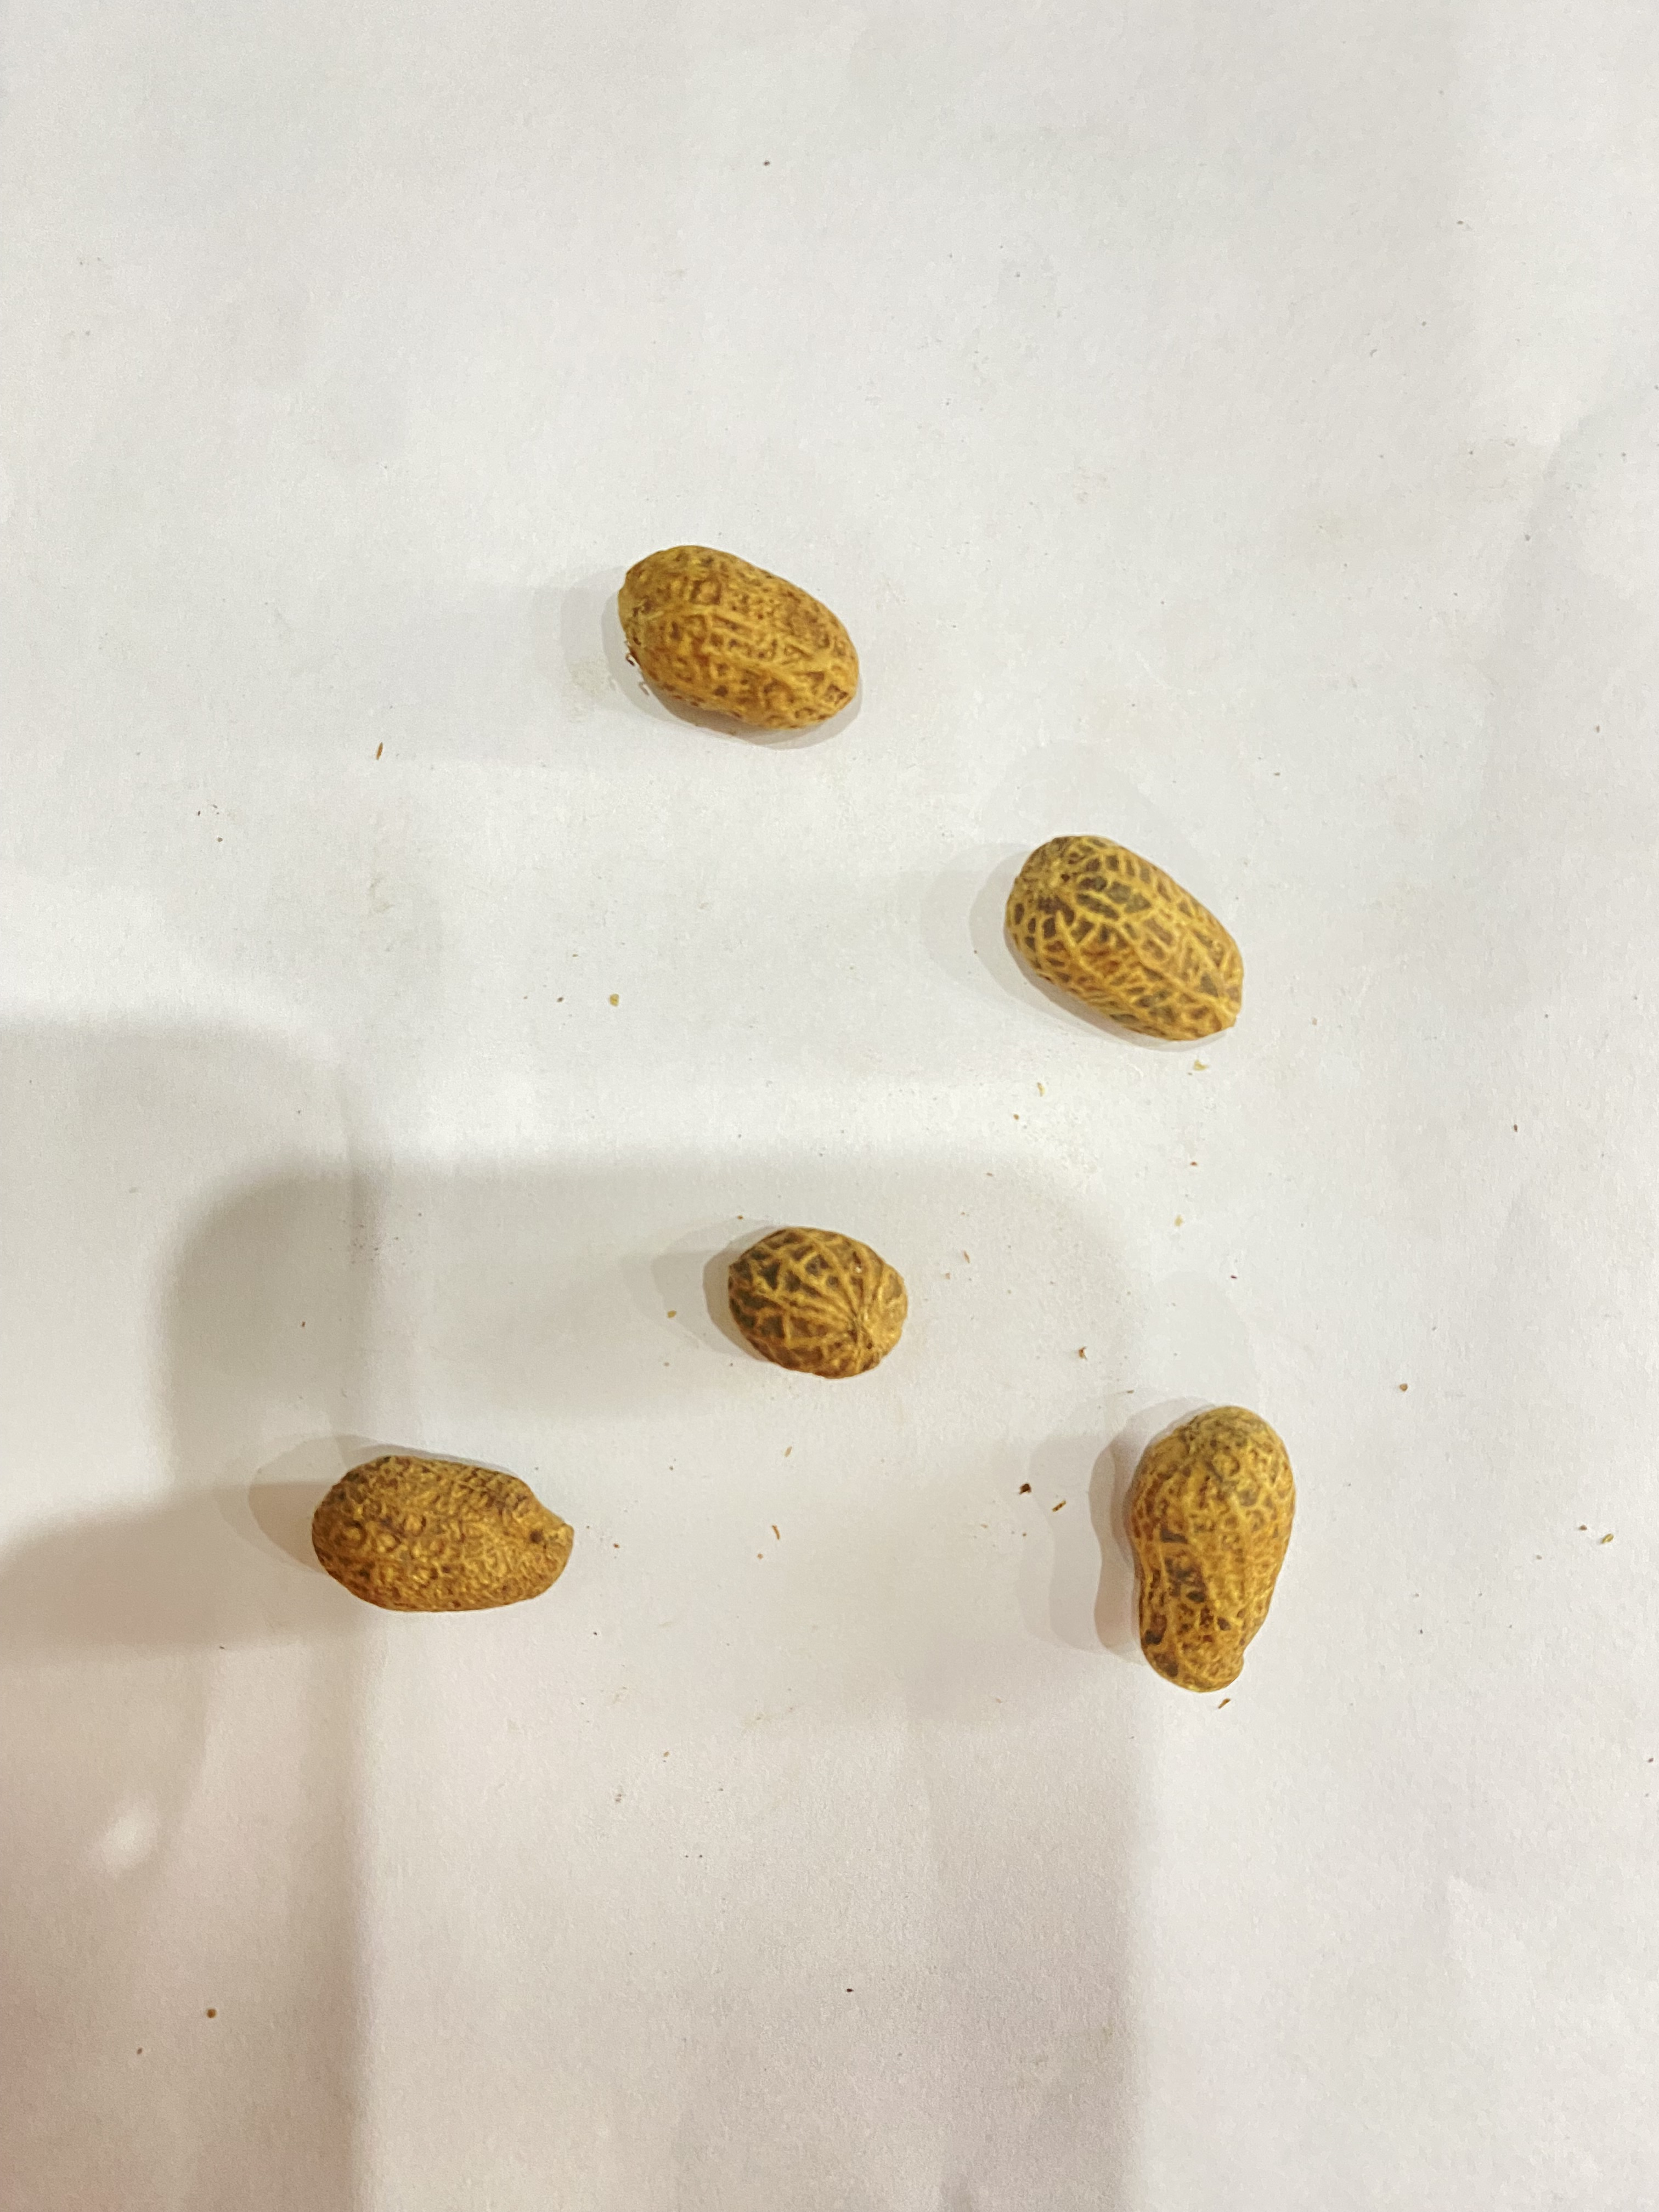kacang1: (605, 505, 913, 749), (1006, 791, 1256, 1061), (1112, 1379, 1310, 1719), (282, 1446, 598, 1623), (704, 1226, 978, 1390)
